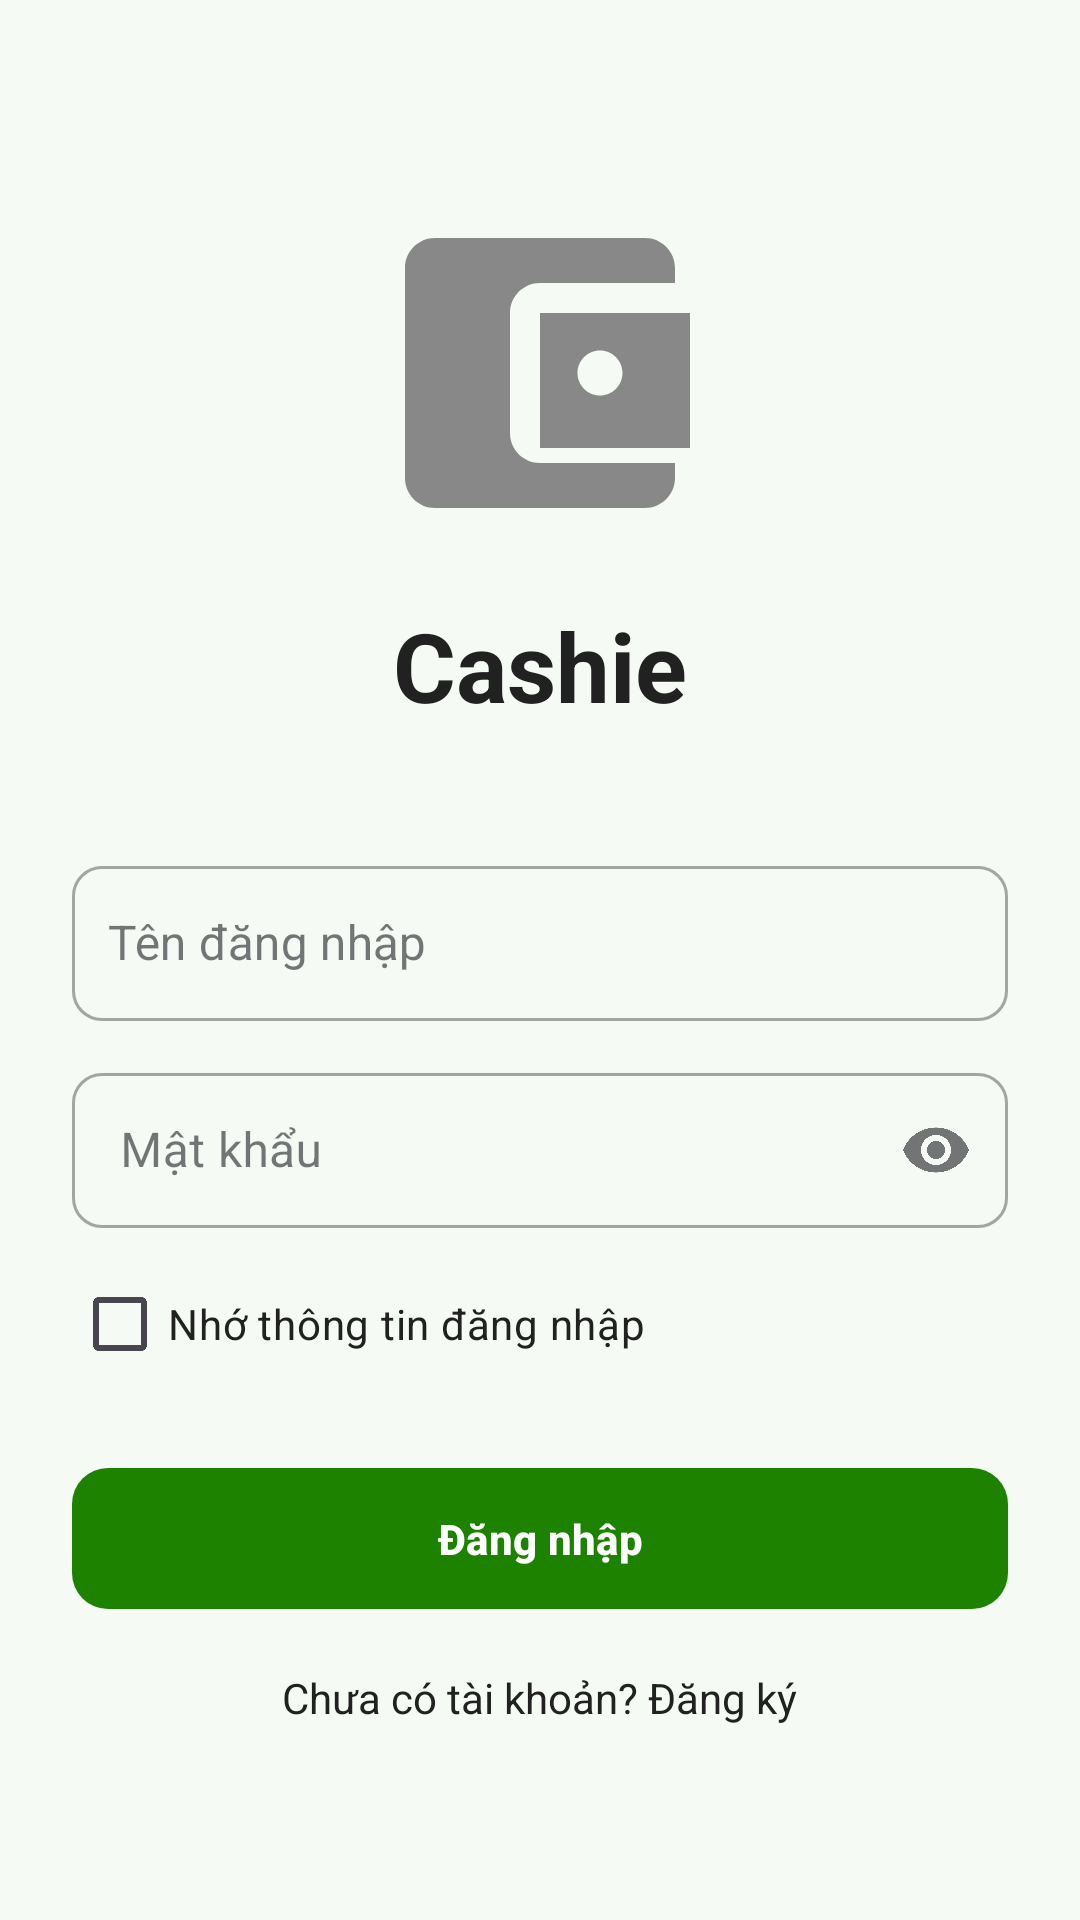

Icons on this 1080x1920 Android screen, each with its box as (x1,y1,x2,y2):
wallet: (405,238,690,508)
